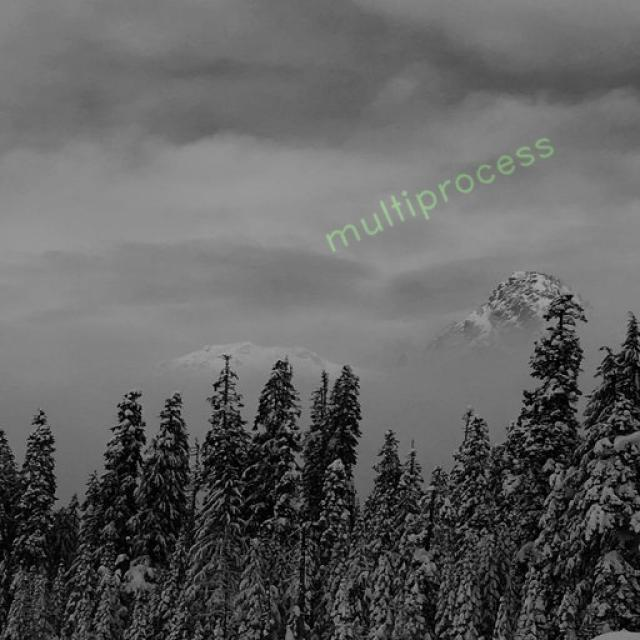watermark: (319, 122, 557, 260)
